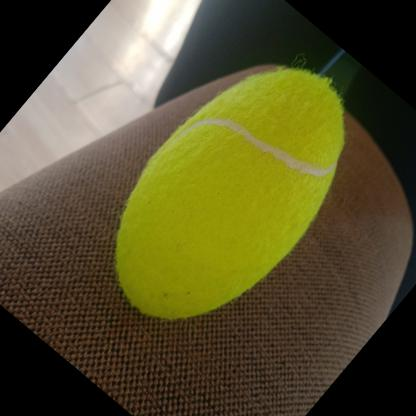Tennis: (65, 18, 397, 366)
